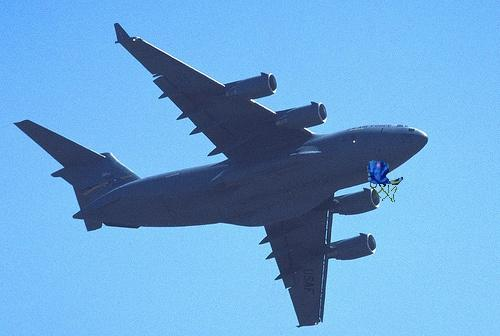tampered: (368, 161, 403, 202)
